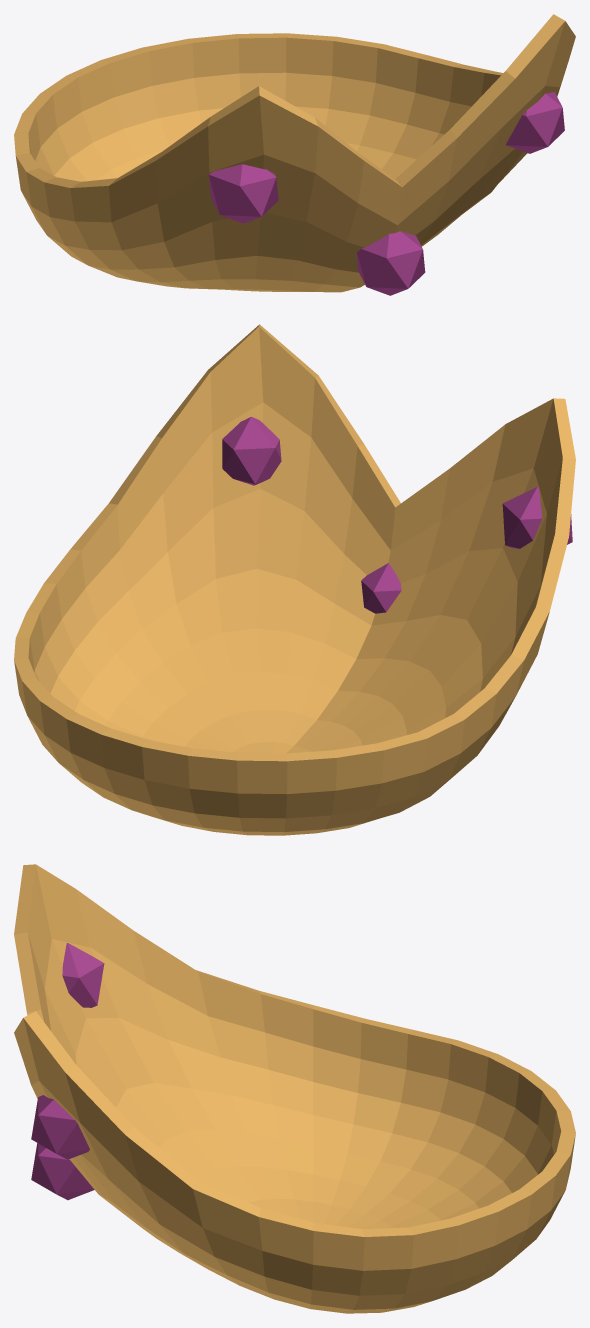
The model's file is BolMagique.fbx.
3 views of the same model, one above another, from view 1: azimuth 30°, elevation 25°; view 2: azimuth 150°, elevation 25°; view 3: azimuth 270°, elevation 25° (orthographic). The views are drawn at different scales.
Visible parts, largest first — view 1: Sphere.007, Icosphere; view 2: Sphere.007, Icosphere; view 3: Sphere.007, Icosphere.
Boxes of the visible parts, x1,y1,x2,y2 form: Sphere.007: (14,14,575,292); Icosphere: (208,92,564,295); Sphere.007: (14,324,575,835); Icosphere: (222,416,572,613); Sphere.007: (14,864,575,1313); Icosphere: (31,943,104,1200).
Size of the model in its own units: 216 by 146 by 227.
